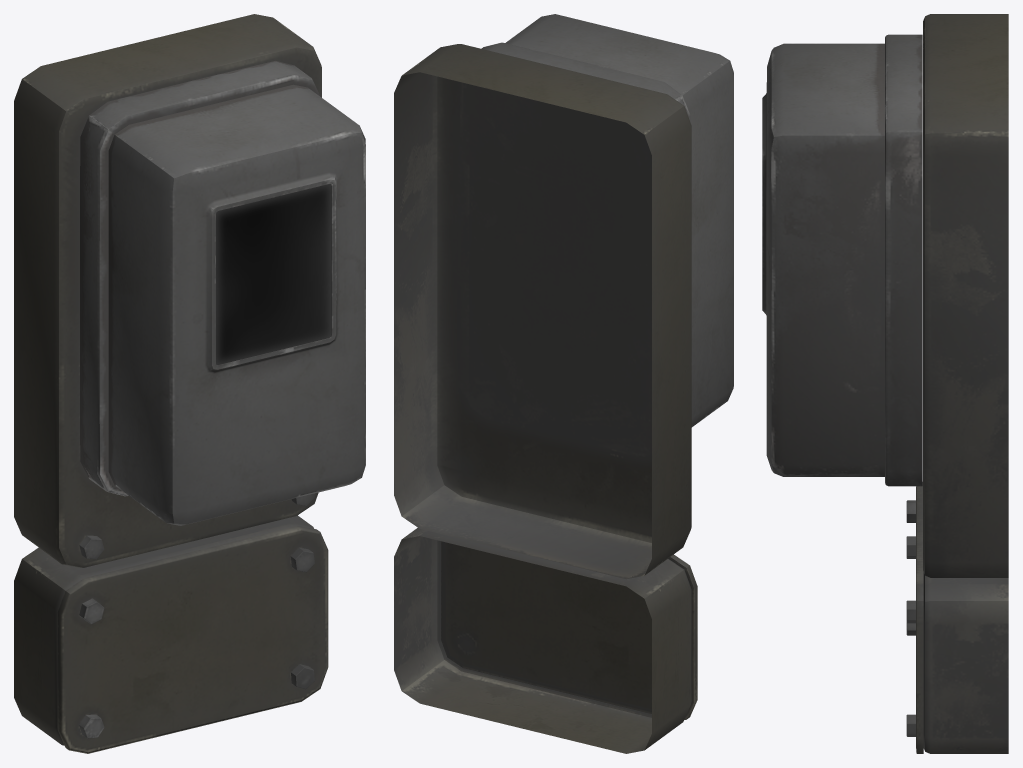
The model's file is electricBox_B.fbx.
The picture shows the model from 3 angles, left to right: view 1: azimuth 30°, elevation 25°; view 2: azimuth 150°, elevation 25°; view 3: azimuth 270°, elevation 25°; orthographic projection. The views are drawn at different scales.
Parts seen in each view (by area): view 1: electricBox_B; view 2: electricBox_B; view 3: electricBox_B.
Boxes of the visible parts, left/top/right/bottom form: electricBox_B: left=14, top=14, right=365, bottom=753; electricBox_B: left=394, top=14, right=733, bottom=753; electricBox_B: left=762, top=14, right=1008, bottom=753.
Size of the model in its own units: 23.46 by 19.22 by 54.86.
